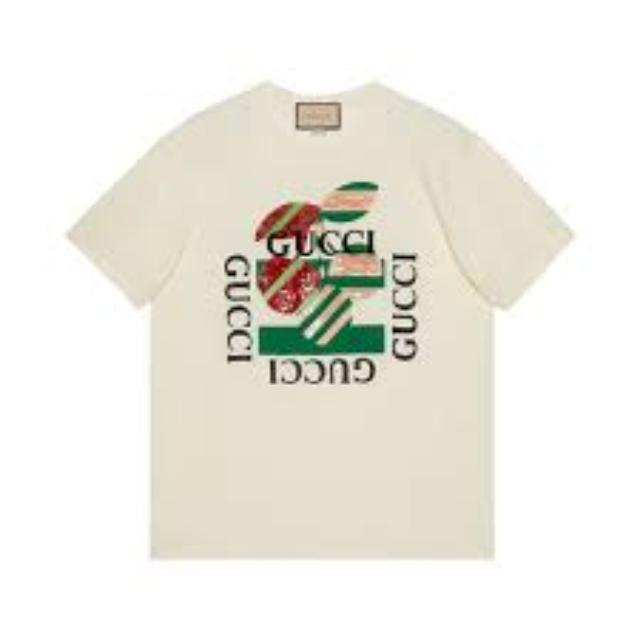Gucci: (258, 220, 388, 262), (221, 248, 259, 366), (264, 354, 378, 388), (388, 251, 422, 363)
